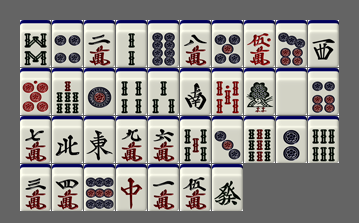0m: (244, 20, 275, 67)
0p: (20, 68, 51, 115)
0s: (212, 68, 243, 115)
1m: (148, 164, 179, 211)
1p: (84, 68, 115, 115)
1s: (244, 68, 275, 115)
1z: (84, 116, 115, 163)
2m: (84, 20, 115, 67)
2p: (276, 116, 307, 163)
2s: (116, 20, 147, 67)
2z: (180, 68, 211, 115)
3m: (20, 164, 51, 211)
3p: (212, 116, 243, 163)
3s: (148, 68, 179, 115)
3z: (308, 20, 339, 67)
4m: (52, 164, 83, 211)
4p: (52, 20, 83, 67)
4s: (116, 68, 147, 115)
4z: (52, 116, 83, 163)
5m: (180, 164, 211, 211)
5p: (212, 20, 243, 67)
5s: (180, 116, 211, 163)
5z: (276, 68, 307, 115)
6m: (148, 116, 179, 163)
6p: (308, 68, 339, 115)
6s: (308, 116, 339, 163)
6z: (212, 164, 243, 211)
7m: (20, 116, 51, 163)
7p: (276, 20, 307, 67)
7s: (52, 68, 83, 115)
7z: (116, 164, 147, 211)
8m: (180, 20, 211, 67)
8p: (148, 20, 179, 67)
8s: (20, 20, 51, 67)
9m: (116, 116, 147, 163)
9p: (84, 164, 115, 211)
9s: (244, 116, 275, 163)
